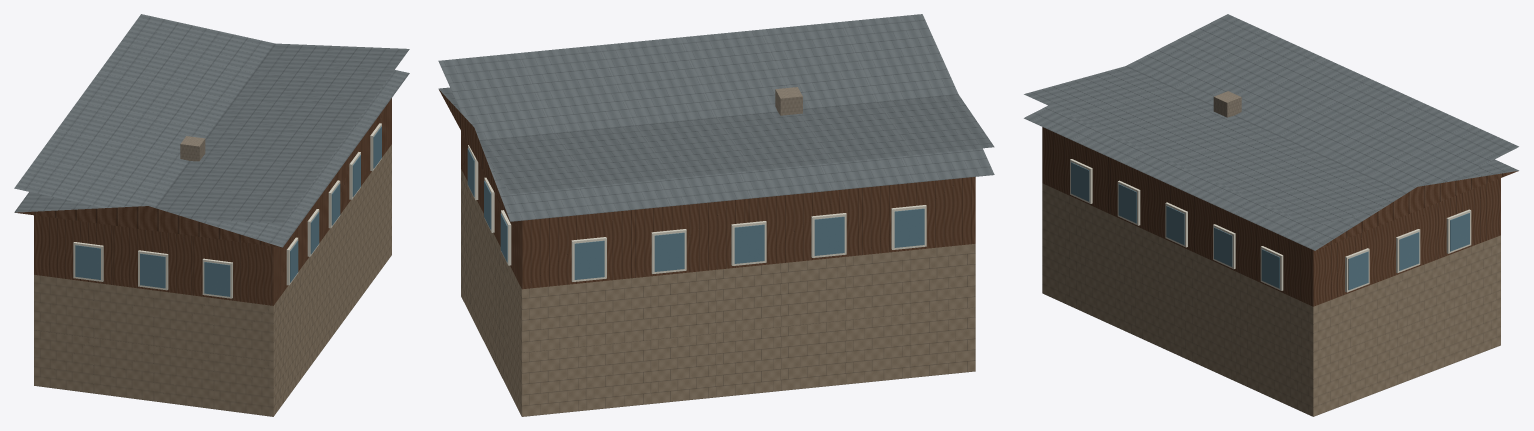
Rendered from core_0021.gltf.
3 views of the same model, side by side, from view 1: azimuth 30°, elevation 25°; view 2: azimuth 150°, elevation 25°; view 3: azimuth 270°, elevation 25° (orthographic). The views are drawn at different scales.
Visible parts, largest first — view 1: core_0021; view 2: core_0021; view 3: core_0021.
Boxes of the visible parts, x1,y1,x2,y2 form: core_0021: (14,14,409,416); core_0021: (438,14,994,416); core_0021: (1024,14,1518,416).
Size of the model in its own units: 19.05 by 8.45 by 18.75.
Materials: 6 (6 with a texture image).
